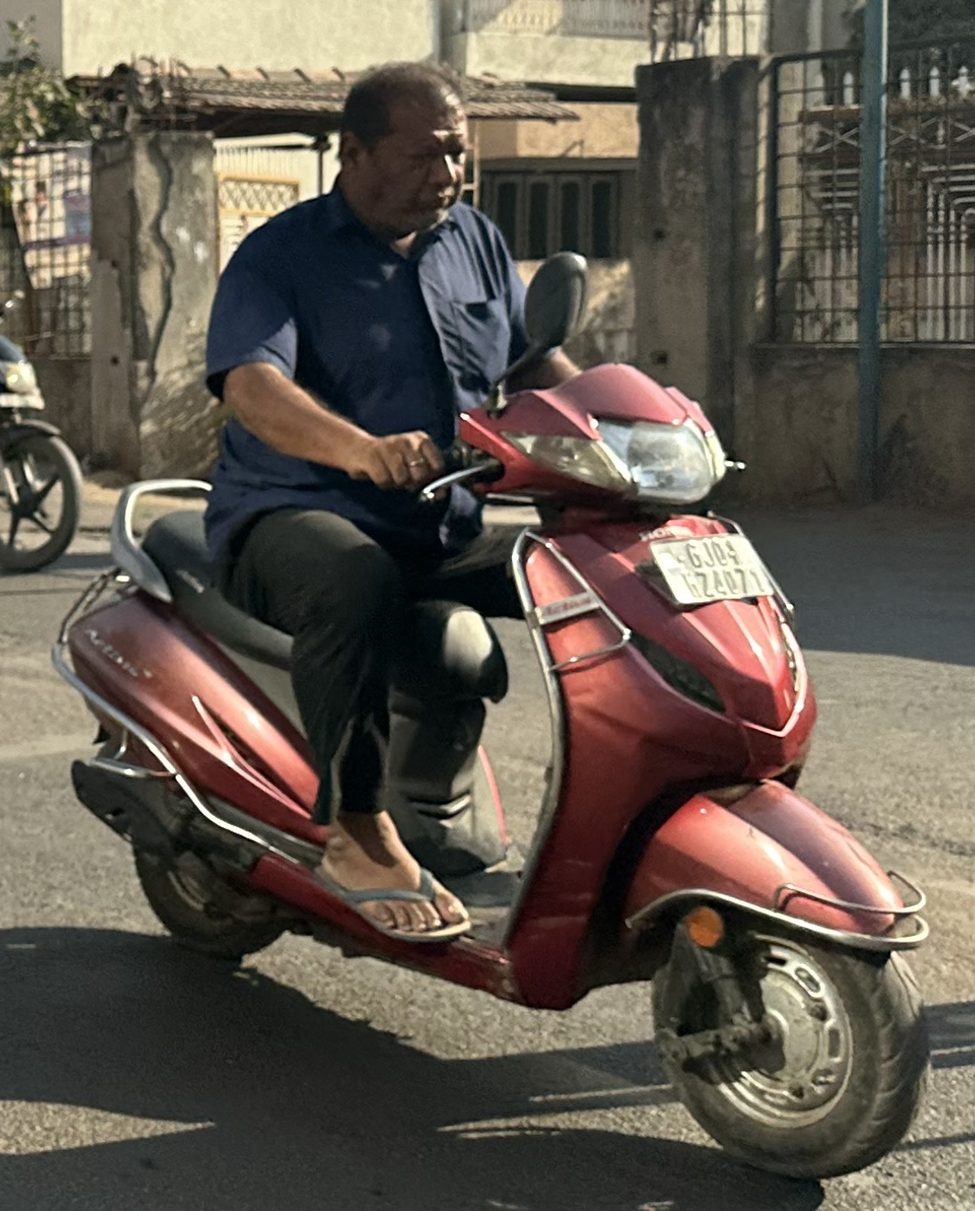BikeWithRider: (52, 60, 941, 1174)
NoHelmet: (335, 62, 490, 230)
